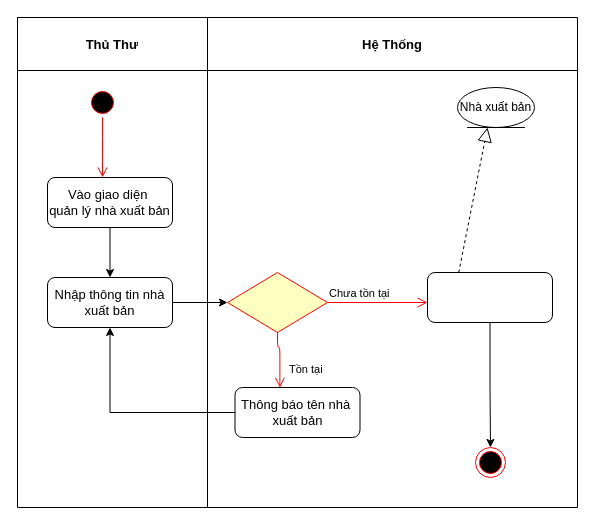
Image size: 595x525. Some labels were removed from this diagram. Each missing label, with the centre of its shape:
Cập nhật nhà sản xuất vào danh mục: (x=489, y=297)
Kiểm tra tên nhà xuất bản: (x=277, y=302)
